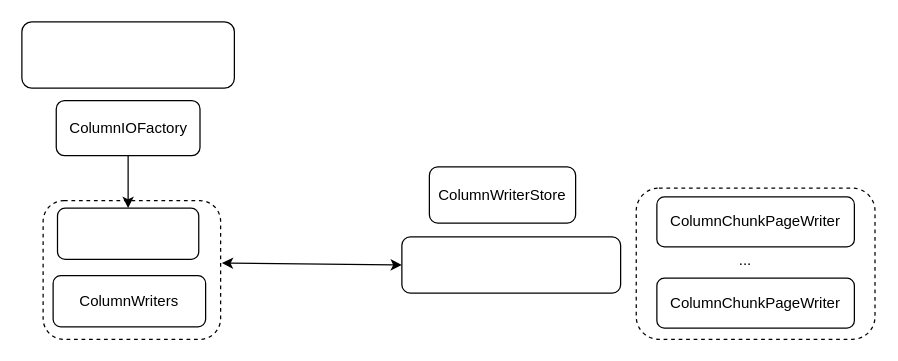
The diagram is 898 pixels wide and 361 high, and some of its shapes have lost their labels. Each missing label, with the centre of its shape:
"ColumnChunkPageWriteStore" goes at (511,264).
"InternalParquetRecordWriter" goes at (127,54).
"MessageColumnIO" goes at (127,233).
